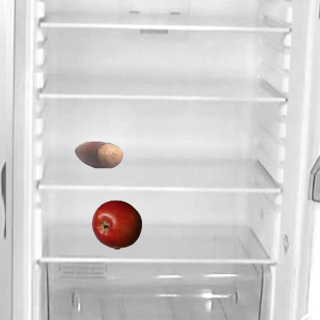Apple Braeburn: (91, 199, 141, 249)
Hazelnut: (73, 129, 123, 179)
